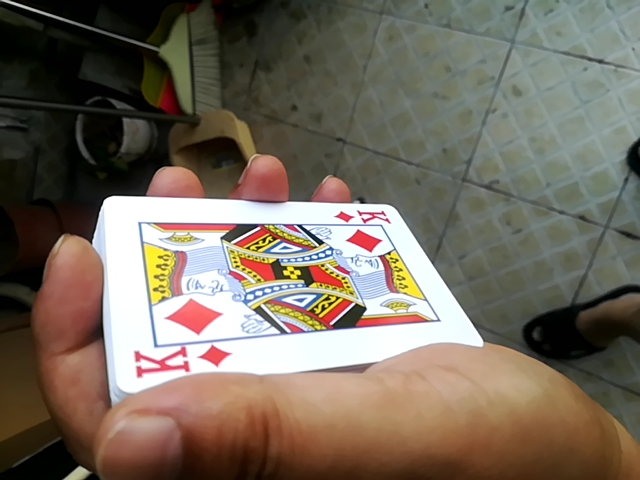fk k: (85, 197, 477, 388)
